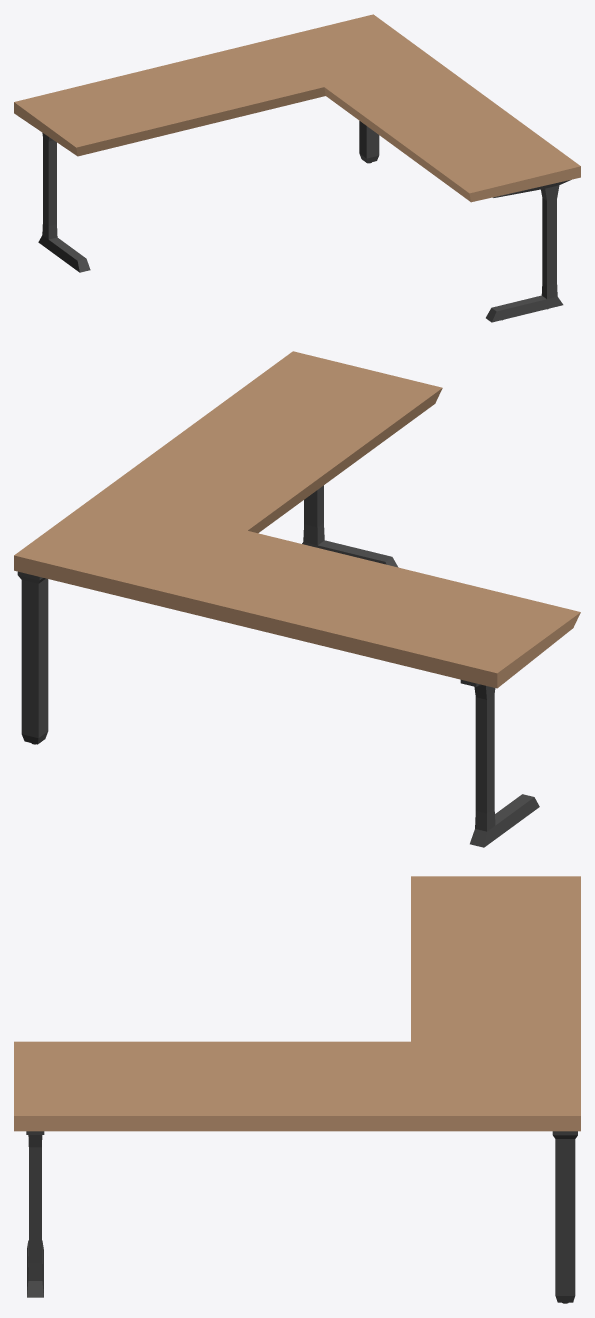
The model's file is table.fbx.
3 views of the same model, one above another, from view 1: azimuth 30°, elevation 25°; view 2: azimuth 150°, elevation 25°; view 3: azimuth 270°, elevation 25° (orthographic). The views are drawn at different scales.
Parts seen in each view (by area): view 1: Table; view 2: Table; view 3: Table.
Boxes of the visible parts, box(x1,y1,x2,y2) form: Table: box(14, 14, 580, 322); Table: box(14, 351, 580, 847); Table: box(14, 876, 580, 1303).
Size of the model in its own units: 200 by 75.1 by 200.
